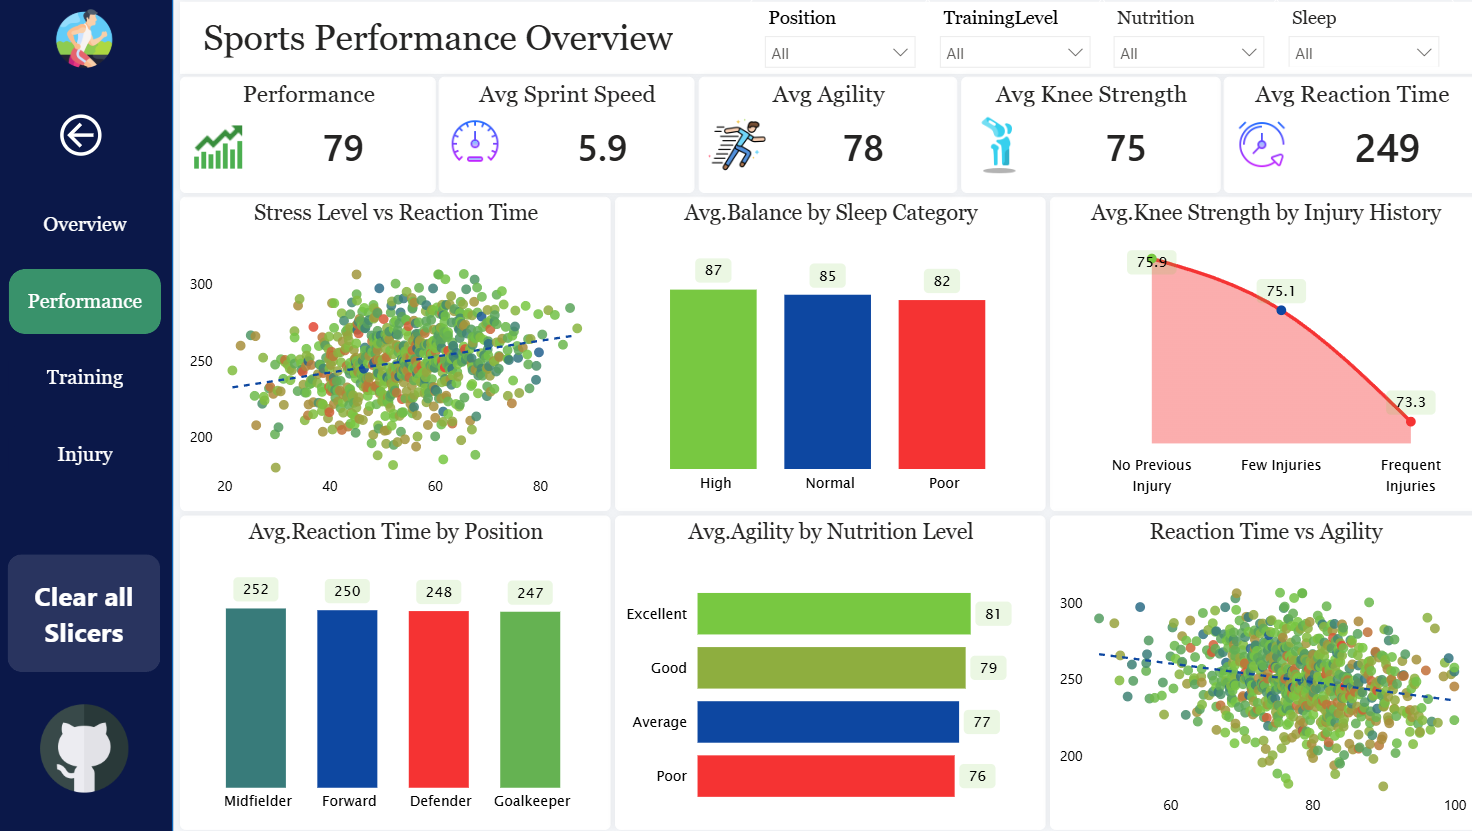

The page's visual inventory and layout, read from the dashboard file:
{"tool":"powerbi","page":{"name":"Performance","canvas":[1280,720],"ordinal":1},"visuals":[{"type":"clusteredColumnChart","title":"Avg.Reaction Time by Position","fields":{"Category":["Dim_Position.Position"],"Y":["All Measures.Fastest Reaction"]},"box":[159,445,370,270],"z":0},{"type":"shape","box":[0,0,153.2,720.2],"z":1000},{"type":"lineChart","title":"Avg.Knee Strength by Injury History","fields":{"Category":["Dim_InjuryHistory.Injury_History"],"Y":["All Measures.Avg Knee Strength"]},"box":[907.2,171.3,370,270],"z":2000},{"type":"clusteredColumnChart","title":"Avg.Balance by Sleep Category","fields":{"Category":["Dim_SleepCategory.Sleep_Category"],"Y":["All Measures.Avg Balance"]},"box":[533.2,171,370,270],"z":3000},{"type":"scatterChart","title":"Stress Level vs Reaction Time","fields":{"X":["Fact_PlayerPerformance.Stress_Level_Score"],"Y":["Fact_PlayerPerformance.Reaction_Time_ms"]},"box":[159.1,170.5,370,270],"z":4000},{"type":"shape","box":[159.3,3.6,1118.4,62],"z":5000},{"type":"slicer","title":"Training Level Distribution","fields":{"Values":["Dim_Position.Position"]},"box":[650,0,155,63.9],"z":6000},{"type":"slicer","title":"Training Level Distribution","fields":{"Values":["Dim_TrainingLevel.TrainingLevel"]},"box":[800,0,155,62.7],"z":7000},{"type":"slicer","title":"Training Level Distribution","fields":{"Values":["Dim_Nutrition.Nutrition_Category"]},"box":[950,0,155,63.9],"z":8000},{"type":"slicer","title":"Training Level Distribution","fields":{"Values":["Dim_SleepCategory.Sleep_Category"]},"box":[1100,0,155,60.3],"z":9000},{"type":"cardVisual","title":"Performance","fields":{"Data":["All Measures.Performance Index"]},"box":[159.3,68,220,100],"z":10000},{"type":"cardVisual","title":"Avg Sprint Speed","fields":{"Data":["All Measures.Avg Sprint Speed"]},"box":[382,67.4,220,100],"z":11000},{"type":"cardVisual","title":"Avg Agility","fields":{"Data":["All Measures.Avg Agility"]},"box":[605.8,67.4,222,100],"z":12000},{"type":"cardVisual","title":"Avg Knee Strength","fields":{"Data":["All Measures.Avg Knee Strength"]},"box":[831,67.4,223,100],"z":13000},{"type":"cardVisual","title":"Avg Reaction Time","fields":{"Data":["All Measures.Avg Reaction Time"]},"box":[1057,67.4,220,100],"z":14000},{"type":"image","box":[14,9.3,125.6,50],"z":15000},{"type":"clusteredBarChart","title":"Avg.Agility by Nutrition Level","fields":{"Category":["Dim_Nutrition.Nutrition_Category"],"Y":["All Measures.Avg Agility"]},"box":[533.2,445.4,370,270],"z":16000},{"type":"scatterChart","title":"Reaction Time vs Agility","fields":{"X":["Fact_PlayerPerformance.Agility_Score"],"Y":["Fact_PlayerPerformance.Reaction_Time_ms"]},"box":[907.4,445.4,370,270],"z":17000},{"type":"pageNavigator","box":[12.3,166.9,131.5,257],"z":18000},{"type":"actionButton","box":[50.3,94.5,57.7,46.6],"z":19000},{"type":"actionButton","box":[0,489.6,153.4,50.3],"z":20000},{"type":"image","box":[35.6,592.6,85.9,93.3],"z":21000}]}

Visuals, with their boxes on the page's 1280x720 design canvas (x1, y1, x2, y2). These are canvas units, not pixel positions in the 1472x831 screenshot, which may show the page scaled, cropped or inside an application window:
"Avg.Reaction Time by Position" clusteredColumnChart: <box>159,445,529,715</box>
shape: <box>0,0,153,720</box>
"Avg.Knee Strength by Injury History" lineChart: <box>907,171,1277,441</box>
"Avg.Balance by Sleep Category" clusteredColumnChart: <box>533,171,903,441</box>
"Stress Level vs Reaction Time" scatterChart: <box>159,170,529,440</box>
shape: <box>159,4,1278,66</box>
"Training Level Distribution" slicer: <box>650,0,805,64</box>
"Training Level Distribution" slicer: <box>800,0,955,63</box>
"Training Level Distribution" slicer: <box>950,0,1105,64</box>
"Training Level Distribution" slicer: <box>1100,0,1255,60</box>
"Performance" cardVisual: <box>159,68,379,168</box>
"Avg Sprint Speed" cardVisual: <box>382,67,602,167</box>
"Avg Agility" cardVisual: <box>606,67,828,167</box>
"Avg Knee Strength" cardVisual: <box>831,67,1054,167</box>
"Avg Reaction Time" cardVisual: <box>1057,67,1277,167</box>
image: <box>14,9,140,59</box>
"Avg.Agility by Nutrition Level" clusteredBarChart: <box>533,445,903,715</box>
"Reaction Time vs Agility" scatterChart: <box>907,445,1277,715</box>
pageNavigator: <box>12,167,144,424</box>
actionButton: <box>50,94,108,141</box>
actionButton: <box>0,490,153,540</box>
image: <box>36,593,122,686</box>
